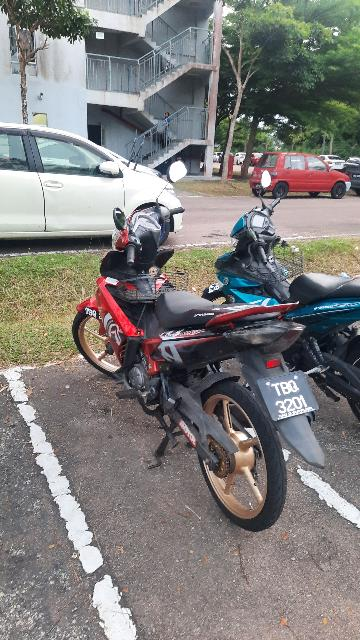License_Plate: (246, 363, 334, 431)
car: (1, 105, 185, 253), (232, 135, 360, 207)
motorcycle: (67, 141, 335, 542), (171, 163, 360, 443)
